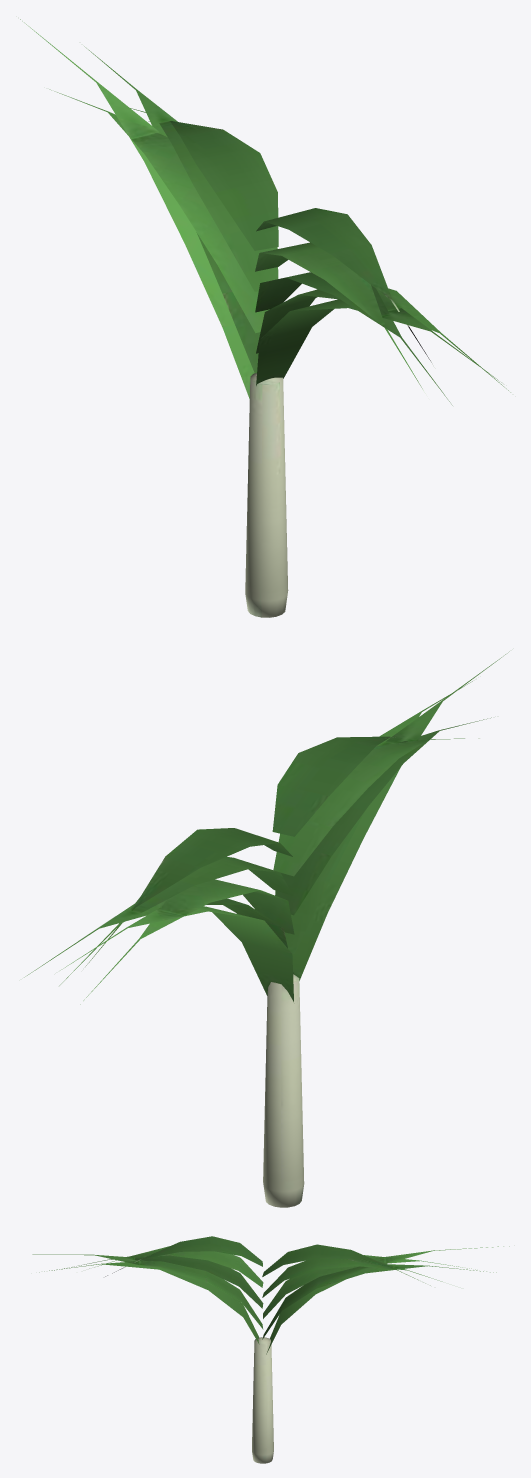
File: crop_leek.glb
3 renders of one model, top to bottom at view 1: azimuth 30°, elevation 25°; view 2: azimuth 150°, elevation 25°; view 3: azimuth 270°, elevation 25°, orthographic. The views are drawn at different scales.
Parts seen in each view (by area): view 1: crop_leek, fruit; view 2: crop_leek, fruit; view 3: crop_leek, fruit.
Part boxes in pixels (bbox=[...]): crop_leek: bbox=[20, 19, 510, 405]; fruit: bbox=[245, 373, 288, 617]; crop_leek: bbox=[24, 651, 509, 1004]; fruit: bbox=[263, 974, 304, 1207]; crop_leek: bbox=[32, 1236, 509, 1354]; fruit: bbox=[252, 1337, 273, 1463].
Size of the model in its own units: 0.0509 by 0.2525 by 0.5241.
1 material, 1 textured.
